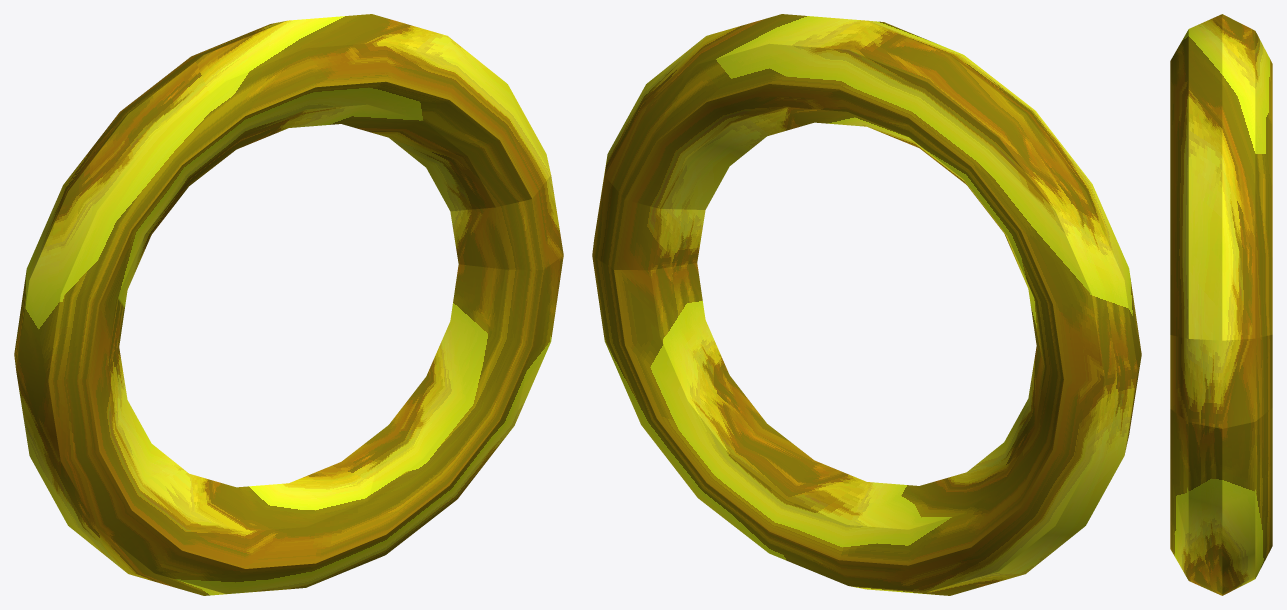
Rendered from goldRing.glb.
3 renders of one model, left to right at view 1: azimuth 30°, elevation 25°; view 2: azimuth 150°, elevation 25°; view 3: azimuth 270°, elevation 25°, orthographic. The views are drawn at different scales.
Visible parts, largest first — view 1: Mesh_0054; view 2: Mesh_0054; view 3: Mesh_0054.
Boxes of the visible parts, x1,y1,x2,y2 form: Mesh_0054: (14, 14, 563, 595); Mesh_0054: (592, 14, 1141, 595); Mesh_0054: (1170, 14, 1272, 595).
Bounding box in the file's own units: 4.87 × 4.87 × 0.8526.
Materials: 1 (1 with a texture image).
